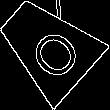O_NW: (15, 13, 80, 79)
